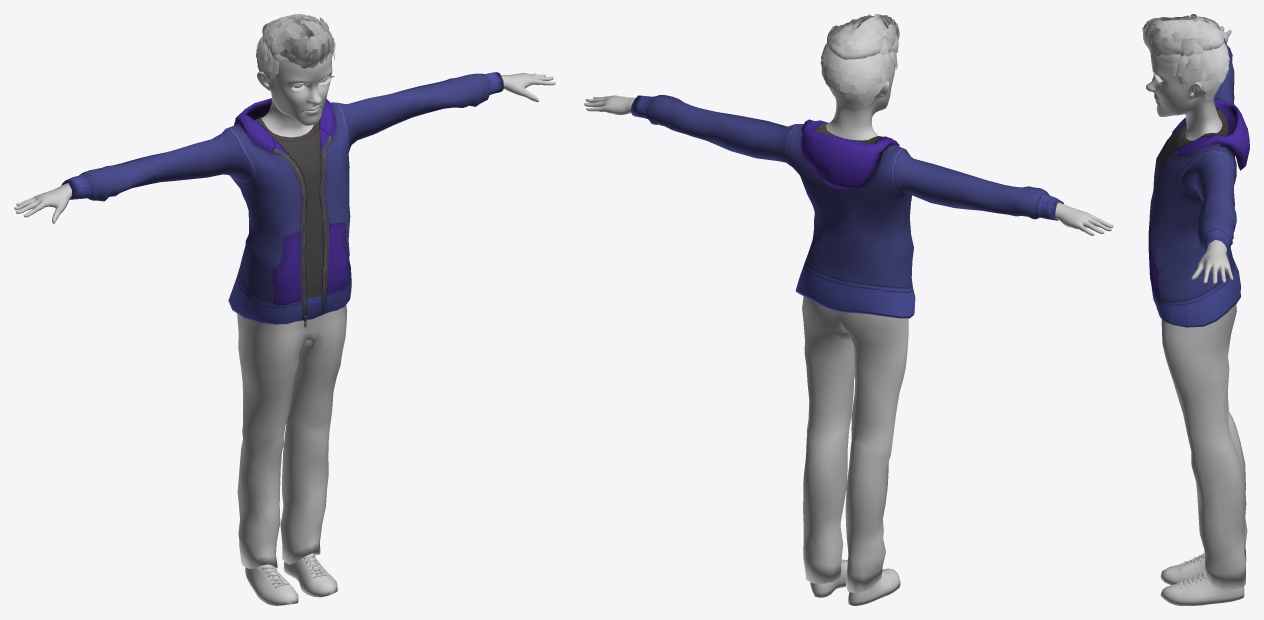
The model's file is Tipico.obj.
3 renders of one model, left to right at view 1: azimuth 30°, elevation 25°; view 2: azimuth 150°, elevation 25°; view 3: azimuth 270°, elevation 25°, orthographic. The views are drawn at different scales.
Visible parts, largest first — view 1: Tops, Bottoms, Body, Hair, Shoes; view 2: Tops, Bottoms, Hair, Body, Shoes; view 3: Tops, Bottoms, Hair, Body, Shoes.
Boxes of the visible parts, box(x1,y1,x2,y2) form: Tops: box(61, 72, 503, 327); Bottoms: box(237, 305, 347, 568); Body: box(14, 19, 555, 223); Hair: box(256, 14, 335, 86); Shoes: box(245, 553, 337, 605); Tops: box(630, 95, 1063, 318); Bottoms: box(802, 296, 908, 593); Hair: box(820, 14, 899, 110); Body: box(584, 44, 1113, 235); Shoes: box(810, 559, 900, 605); Tops: box(1148, 38, 1249, 327); Bottoms: box(1161, 303, 1247, 590); Hair: box(1142, 14, 1230, 101); Body: box(1146, 26, 1233, 284); Shoes: box(1160, 553, 1244, 605).
Size of the model in its own units: 165 by 169 by 28.81.
